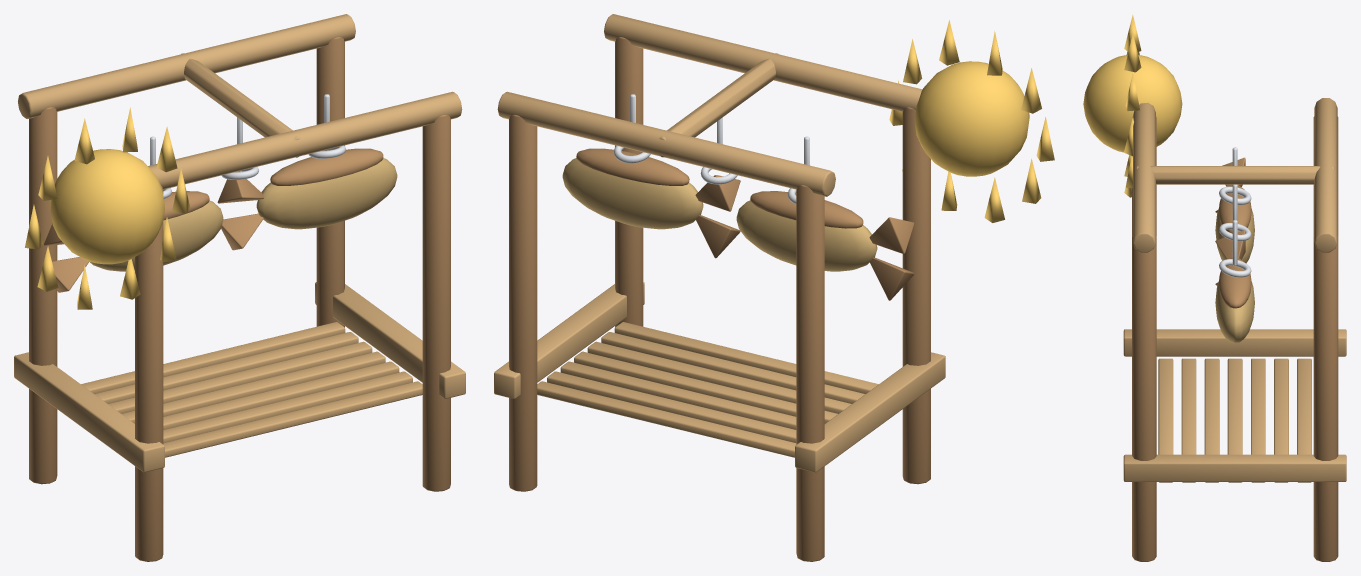
The model's file is DryingRack.glb.
The picture shows the model from 3 angles, left to right: view 1: azimuth 30°, elevation 25°; view 2: azimuth 150°, elevation 25°; view 3: azimuth 270°, elevation 25°; orthographic projection. The views are drawn at different scales.
Parts seen in each view (by area): view 1: shell, sun; view 2: shell, sun; view 3: shell, sun.
Part boxes in pixels (box(x1,y1,x2,y2)): shell: box(14, 14, 465, 561); sun: box(25, 107, 190, 309); shell: box(494, 14, 945, 561); sun: box(889, 20, 1054, 222); shell: box(1123, 98, 1346, 561); sun: box(1083, 14, 1182, 197).
Bounding box in the file's own units: 2.62 × 2.63 × 1.6.
